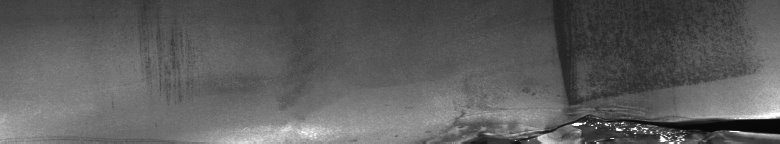ke: (447, 64, 776, 136)
